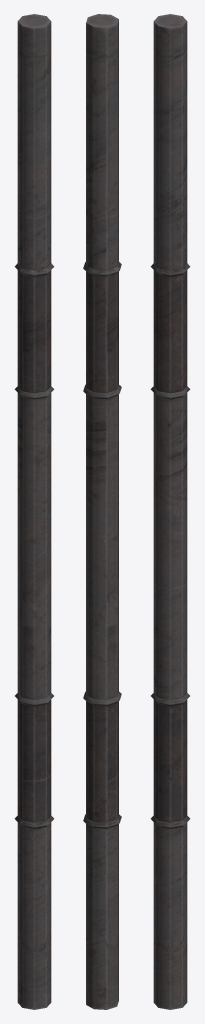
Rendered from sm_dwarf_iron_mattock_handle_a.fbx.
The picture shows the model from 3 angles, left to right: view 1: azimuth 90°, elevation 25°; view 2: azimuth 150°, elevation 25°; view 3: azimuth 270°, elevation 25°; orthographic projection.
Parts seen in each view (by area): view 1: sm_dwarf_iron_mattock_handle_a; view 2: sm_dwarf_iron_mattock_handle_a; view 3: sm_dwarf_iron_mattock_handle_a.
Part boxes in pixels (bbox=[...]): sm_dwarf_iron_mattock_handle_a: bbox=[14, 14, 54, 1009]; sm_dwarf_iron_mattock_handle_a: bbox=[83, 14, 121, 1009]; sm_dwarf_iron_mattock_handle_a: bbox=[150, 14, 190, 1009].
Bounding box in the file's own units: 0.0592 × 0.0592 × 1.6.
1 material, 1 textured.
